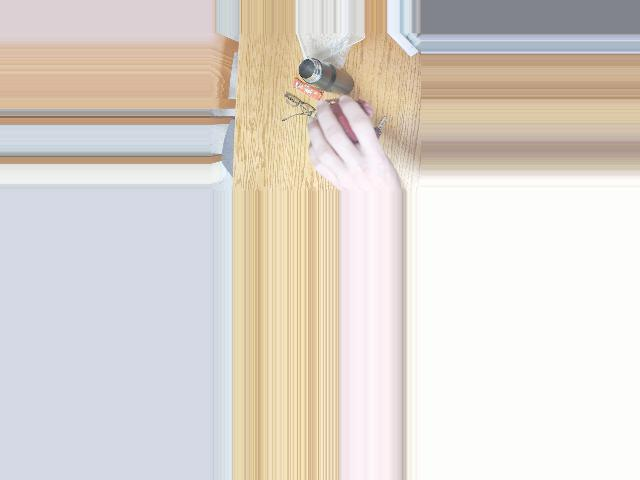onion: (315, 110, 370, 155)
